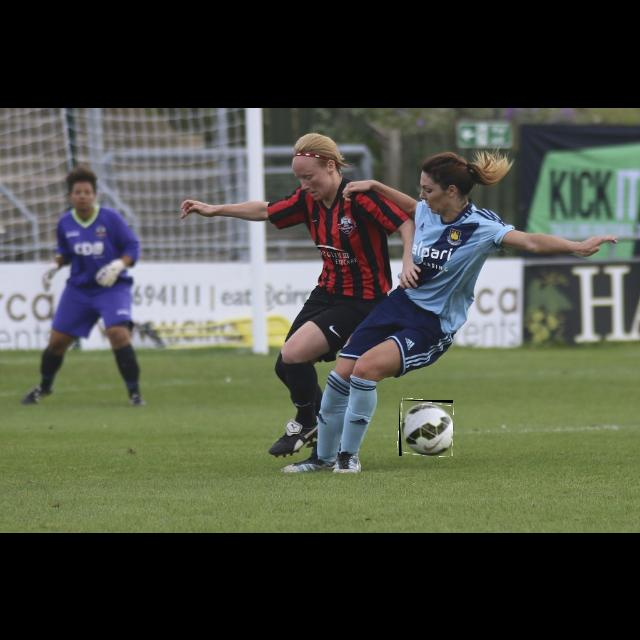Football: (399, 400, 453, 456)
